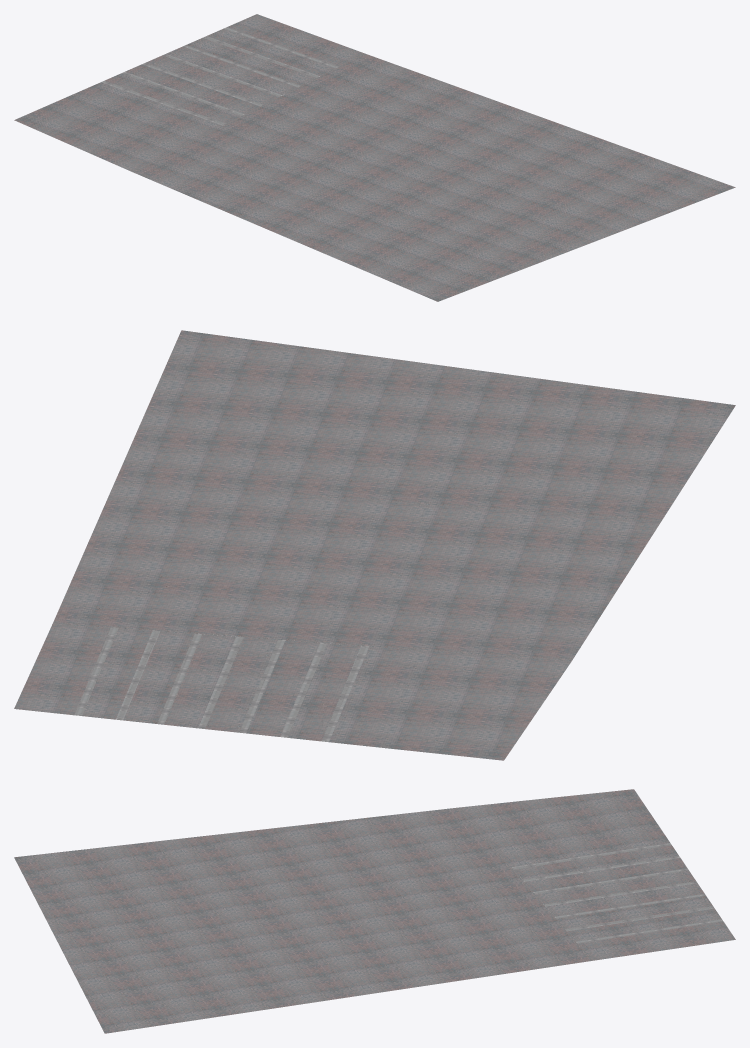
The model's file is GSP_Floor_A.FBX.
3 renders of one model, top to bottom at view 1: azimuth 30°, elevation 25°; view 2: azimuth 150°, elevation 25°; view 3: azimuth 270°, elevation 25°, orthographic. The views are drawn at different scales.
Parts seen in each view (by area): view 1: Floor_Ges_Scholl_Platz_WIP, GSP_Future_floor, Floor_Ges_Scholl_Platz_detailed; view 2: Floor_Ges_Scholl_Platz_WIP, GSP_Future_floor, Floor_Ges_Scholl_Platz_detailed; view 3: Floor_Ges_Scholl_Platz_WIP, GSP_Future_floor, Floor_Ges_Scholl_Platz_detailed.
Part boxes in pixels (x1,y1,x2,y2): Floor_Ges_Scholl_Platz_WIP: (132,53,735,301); GSP_Future_floor: (87,14,364,131); Floor_Ges_Scholl_Platz_detailed: (14,88,209,171); Floor_Ges_Scholl_Platz_WIP: (53,330,735,661); GSP_Future_floor: (14,623,396,744); Floor_Ges_Scholl_Platz_detailed: (357,648,571,760); Floor_Ges_Scholl_Platz_WIP: (14,807,591,1033); GSP_Future_floor: (504,834,735,960); Floor_Ges_Scholl_Platz_detailed: (460,789,663,858).
Size of the model in its own units: 7965 by 6.08e-13 by 9933.
Materials: 2 (2 with a texture image).
